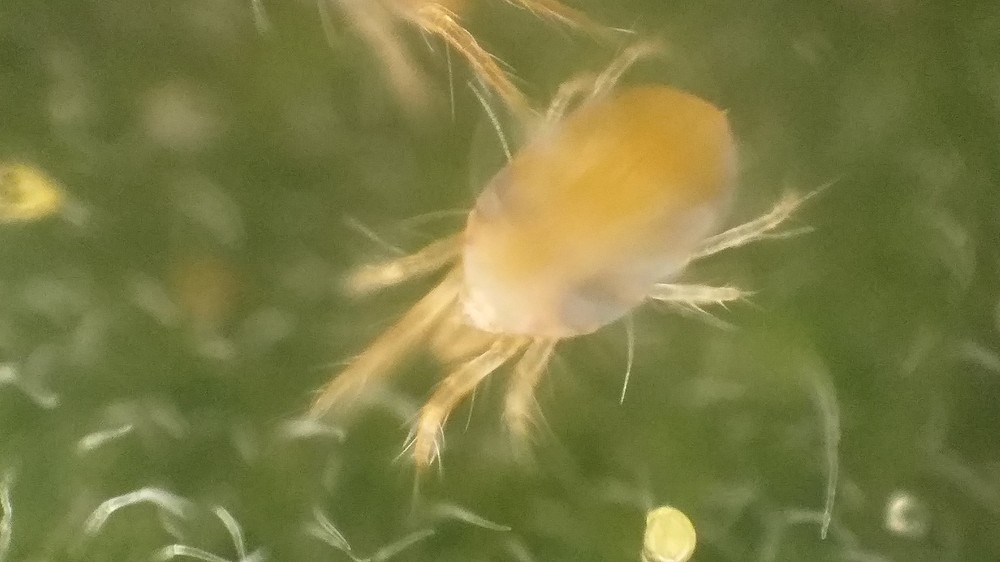Aracnido Rojo: (310, 47, 825, 478)
